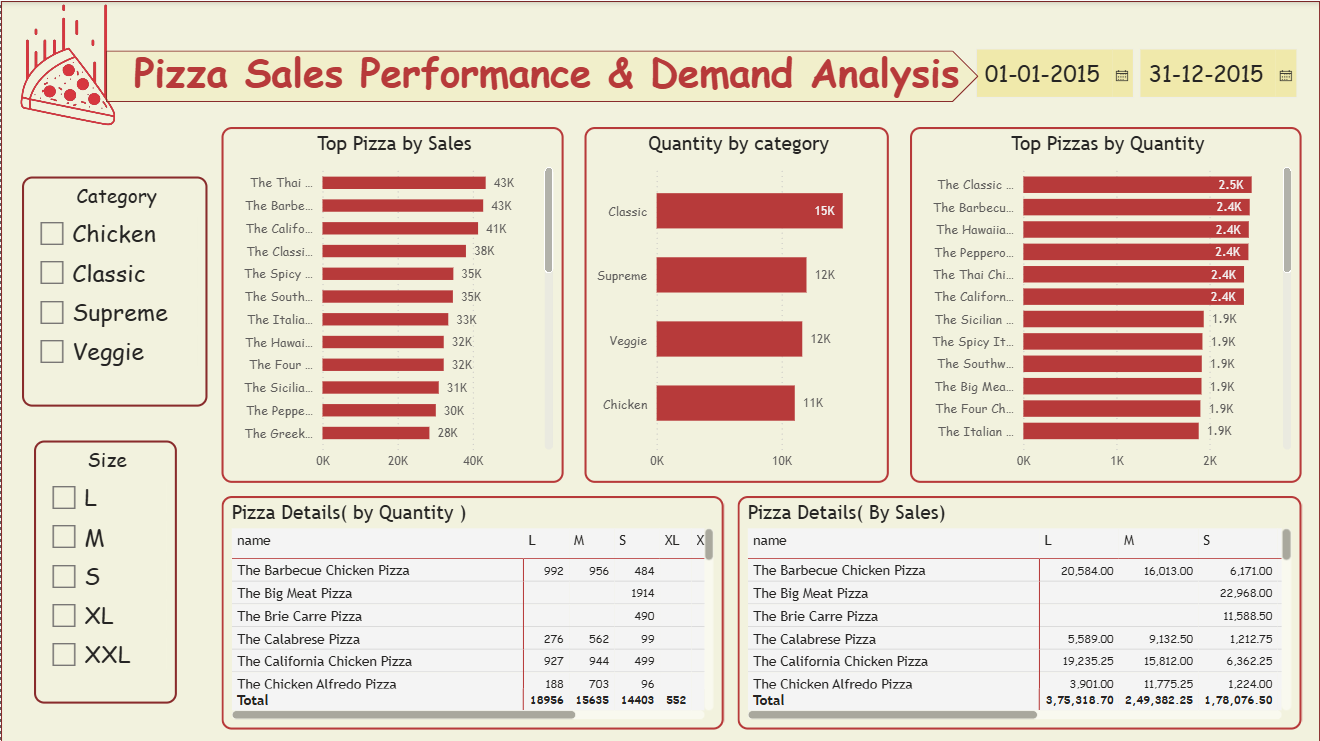

Layout of this report page (visuals, bound fields, positions):
{"tool":"powerbi","page":{"name":"Product & Revenue Analysis","canvas":[1280,720],"ordinal":2},"visuals":[{"type":"shape","box":[0,0,1280,720],"z":0},{"type":"slicer","fields":{"Values":["orders.date"]},"box":[933.3,36.7,346.7,85],"z":1000},{"type":"slicer","title":"Category","fields":{"Values":["pizza_types.category"]},"box":[20,170,180,223.3],"z":2000},{"type":"slicer","title":"Size","fields":{"Values":["pizzas.size"]},"box":[31.7,426.7,138.3,255],"z":3000},{"type":"image","box":[0,0,128.3,121.7],"z":4000},{"type":"shape","box":[101.7,48.3,846.7,50],"z":5000},{"type":"textbox","box":[123.3,36.7,843.3,85],"z":6000},{"type":"clusteredBarChart","title":"Quantity by category","fields":{"Category":["pizza_types.category"],"Y":["Sum(order_details.quantity)"]},"box":[566.7,121.7,295,345],"z":7000},{"type":"clusteredBarChart","title":"Top Pizza by Sales","fields":{"Y":["order_details.Total Sales"],"Category":["pizza_types.name"]},"box":[213.3,121.7,331.7,345],"z":8000},{"type":"clusteredBarChart","title":"Top Pizzas by Quantity","fields":{"Category":["pizza_types.name"],"Y":["Sum(order_details.quantity)"]},"box":[881.7,121.7,380,345],"z":9000},{"type":"pivotTable","title":"Pizza Details( by Quantity )","fields":{"Rows":["pizza_types.name"],"Columns":["pizzas.size"],"Values":["Sum(order_details.quantity)"]},"box":[213.7,480.9,487.4,226.7],"z":10000},{"type":"pivotTable","title":"Pizza Details( By Sales)","fields":{"Rows":["pizza_types.name"],"Columns":["pizzas.size"],"Values":["order_details.Total Sales"]},"box":[714.1,480.9,547.3,226.7],"z":11000}]}

Visuals, with their boxes in screenshot pixels (x1, y1, x2, y2), scaled from the page's 1280x720 canvas onto the 1320x741 screenshot:
shape: 0 0 1319 740
slicer - orders.date: 962 38 1319 125
"Category" slicer: 21 175 206 405
"Size" slicer: 33 439 175 702
image: 0 0 132 125
shape: 105 50 978 101
textbox: 127 38 997 125
"Quantity by category" clusteredBarChart: 584 125 889 480
"Top Pizza by Sales" clusteredBarChart: 220 125 562 480
"Top Pizzas by Quantity" clusteredBarChart: 909 125 1301 480
"Pizza Details( by Quantity )" pivotTable: 220 495 723 728
"Pizza Details( By Sales)" pivotTable: 736 495 1301 728
